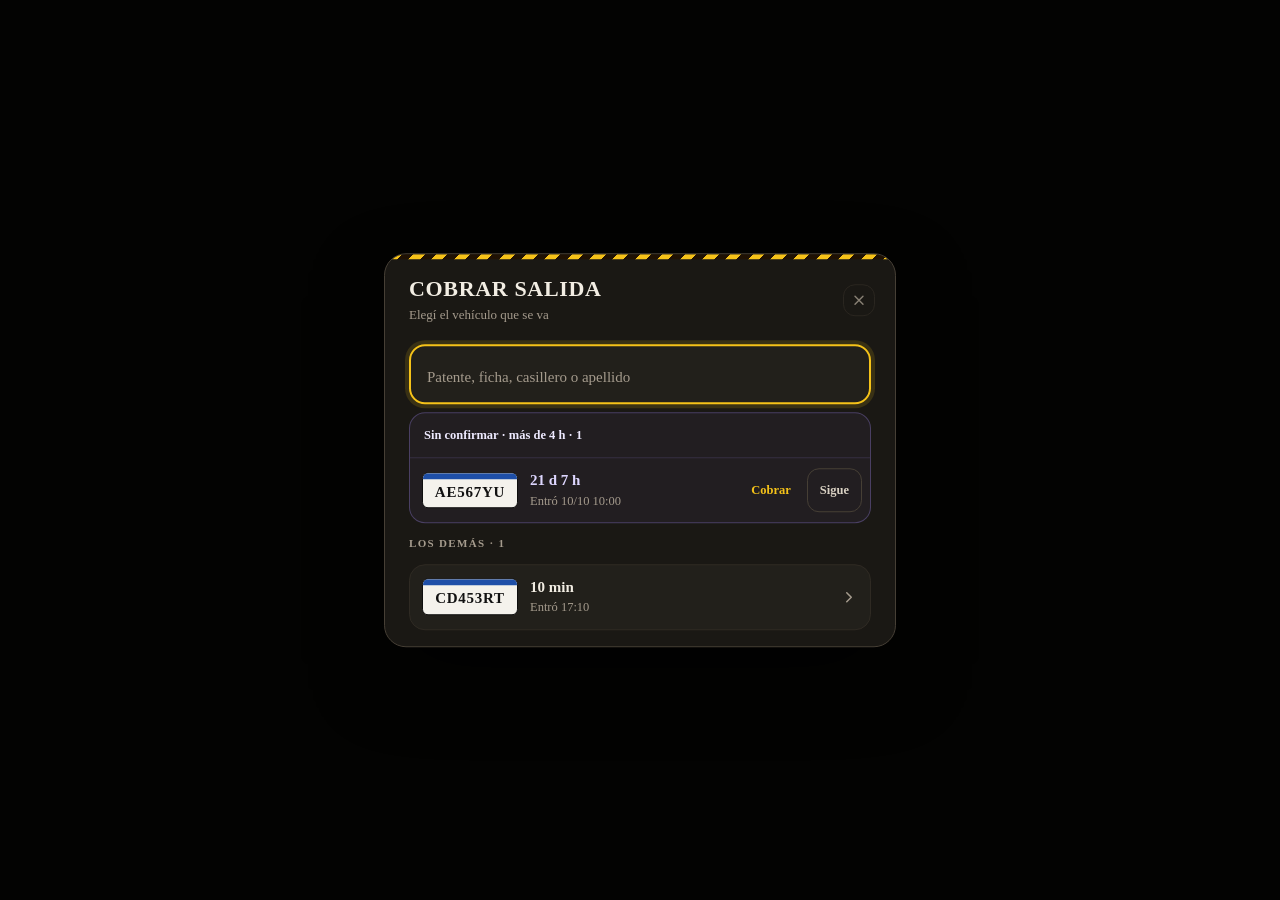
Scenario: sin buscar: primero los de más de 4 h sin confirmar; «Sigue» los pasa a la lista común
Expected: the text "Sin confirmar · más de 4 h · 1" is shown, [424,426,582,445]
Expected: the text "Los demás · 1" is shown, [409,537,505,549]
Click the button with aria-label "AE567YU sigue en la playa" at (834, 490), box [807,468,862,512]
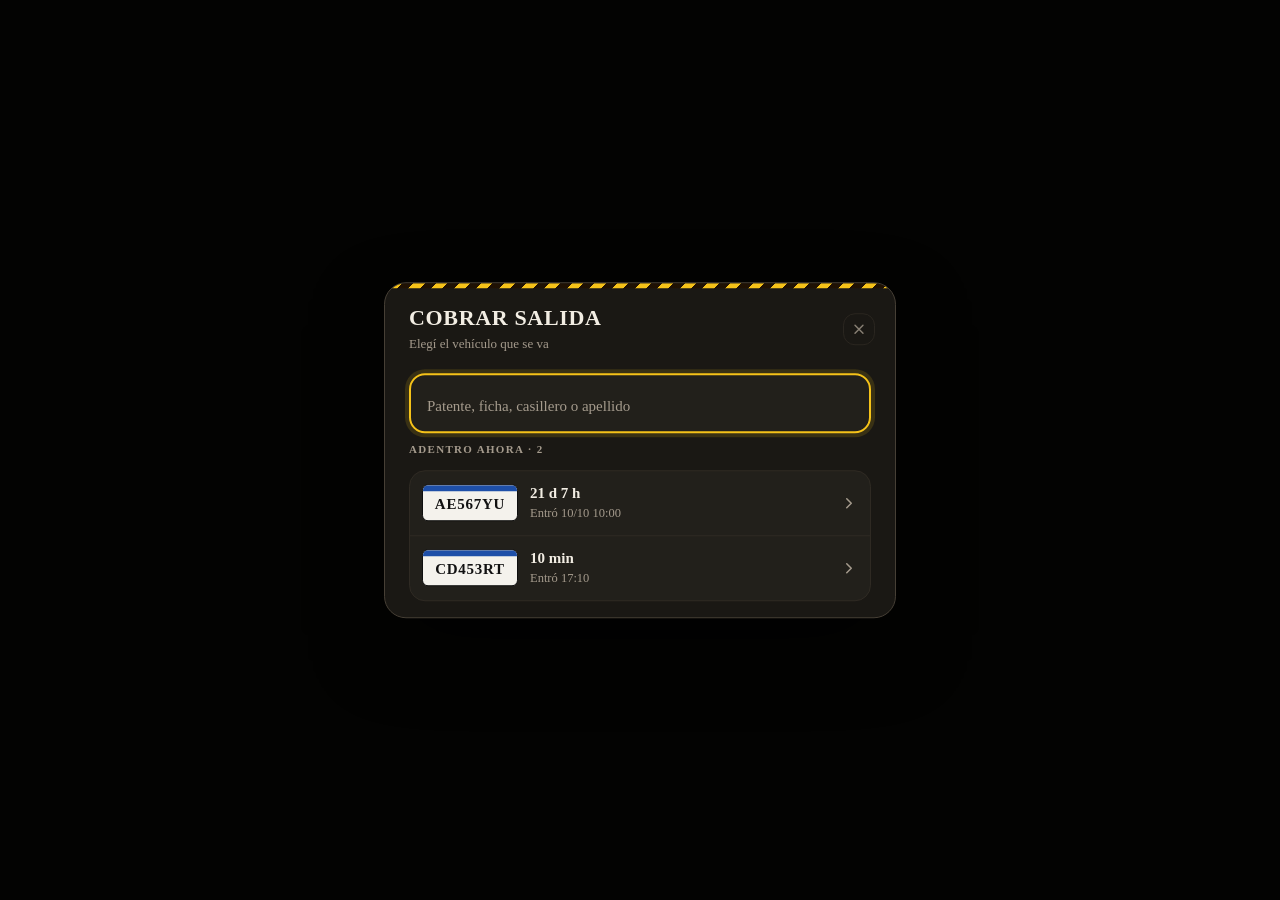
Expected: the text "Sin confirmar" is gone
Expected: the text "Adentro ahora · 2" is shown, [409,443,544,455]
